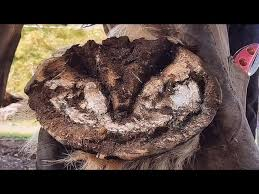horsesole: (24, 43, 223, 161)
